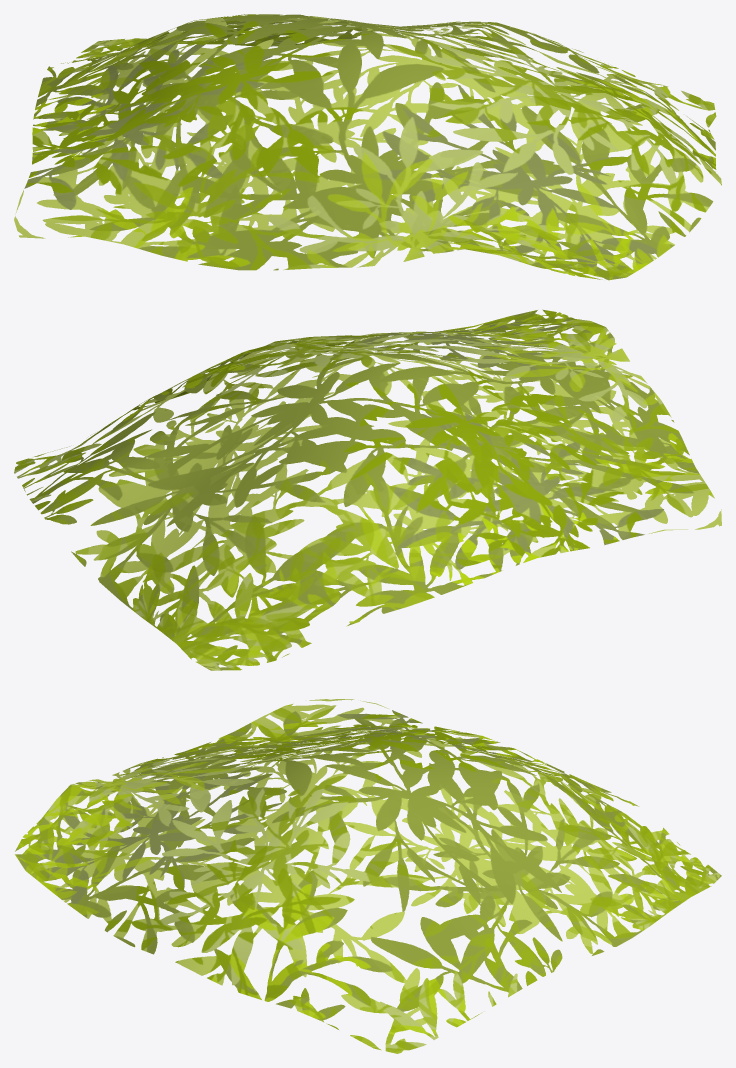
Rendered from SM_CanopyLeaves_002.fbx.
3 renders of one model, top to bottom at view 1: azimuth 30°, elevation 25°; view 2: azimuth 150°, elevation 25°; view 3: azimuth 270°, elevation 25°, orthographic. The views are drawn at different scales.
Parts seen in each view (by area): view 1: canopy_plane2; view 2: canopy_plane2; view 3: canopy_plane2.
Boxes of the visible parts, bbox=[...] form: canopy_plane2: bbox=[14, 14, 721, 280]; canopy_plane2: bbox=[14, 309, 721, 670]; canopy_plane2: bbox=[15, 699, 721, 1053].
Bounding box in the file's own units: 6810340 × 1517802 × 6980762.
